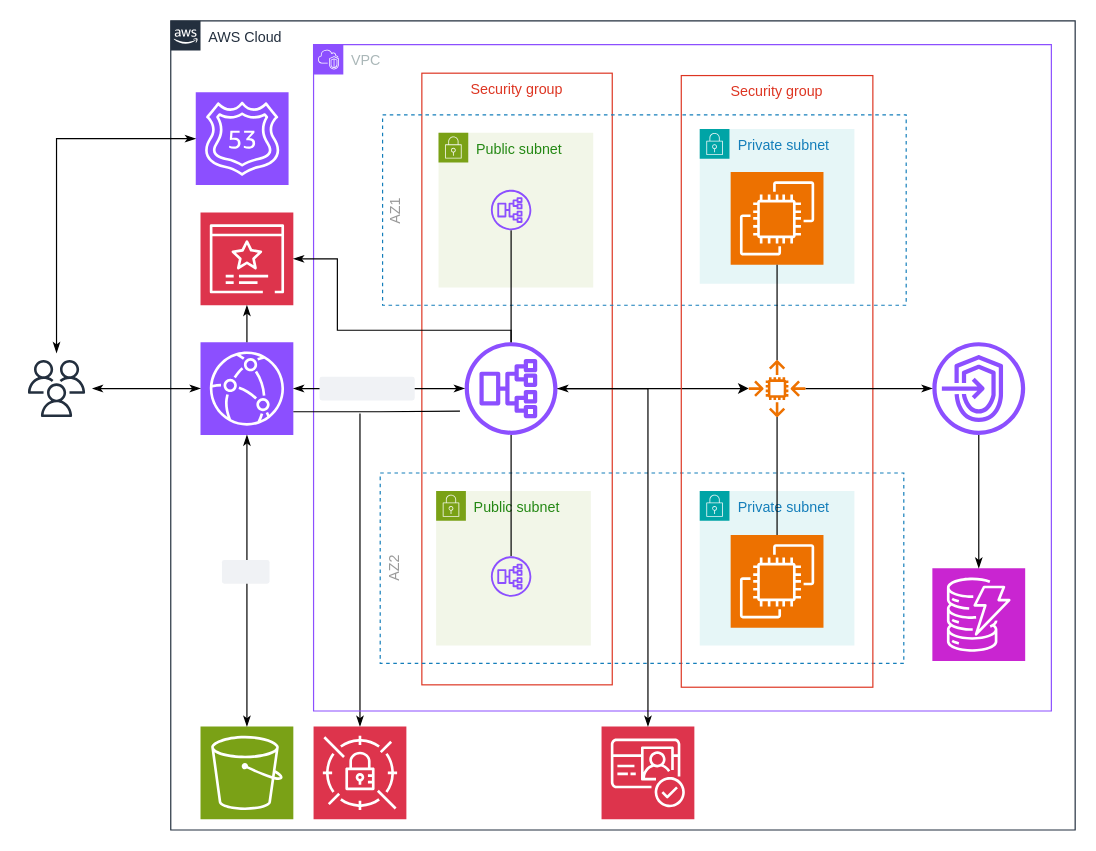
Image size: 1096x851. Some labels were removed from this diagram. Here are the shapes that lost their labels. From the top down, the centre of each, then its label:
point 56,388: Users
point 366,388: Cusom Header
point 245,571: OAC
